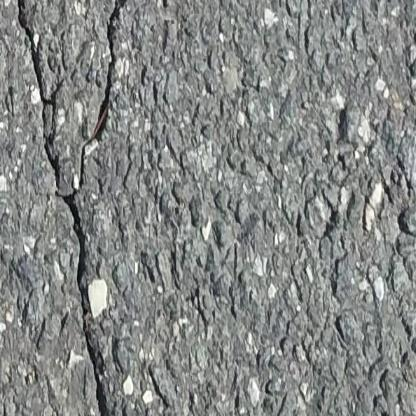Cracks: (13, 0, 136, 416)
